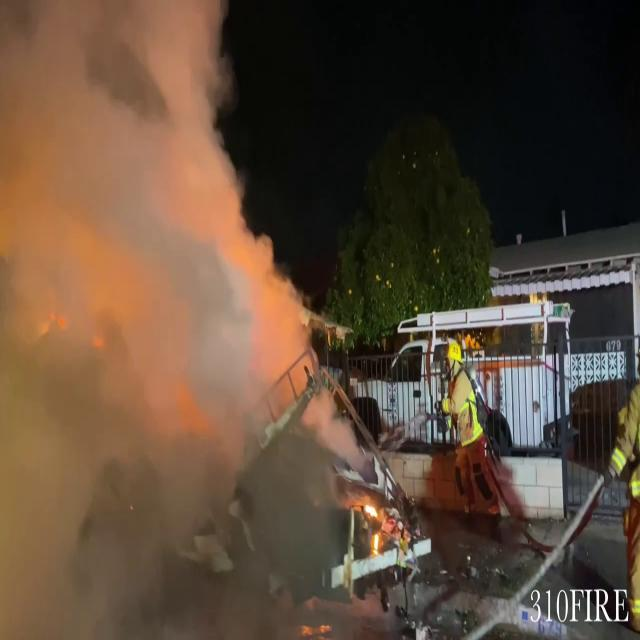Smoke: (0, 0, 328, 633)
